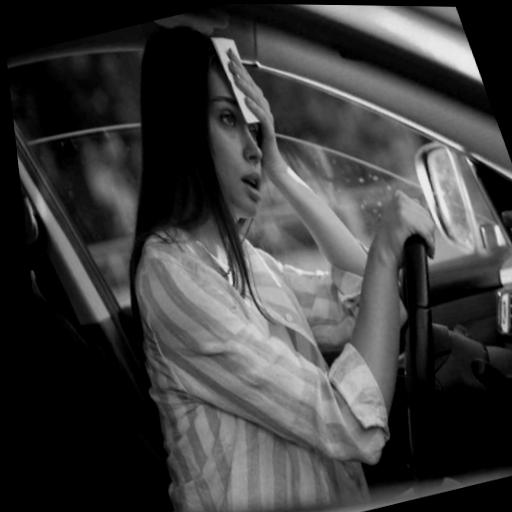Hands-on-the-Wheel: (338, 155, 476, 321)
